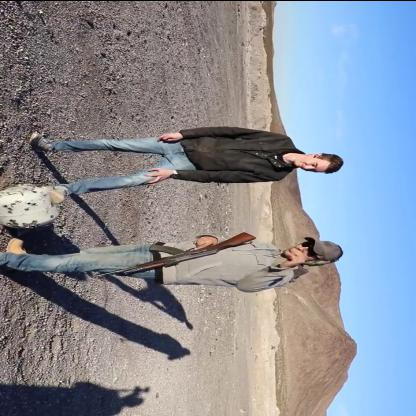long weapon: (104, 228, 270, 283)
